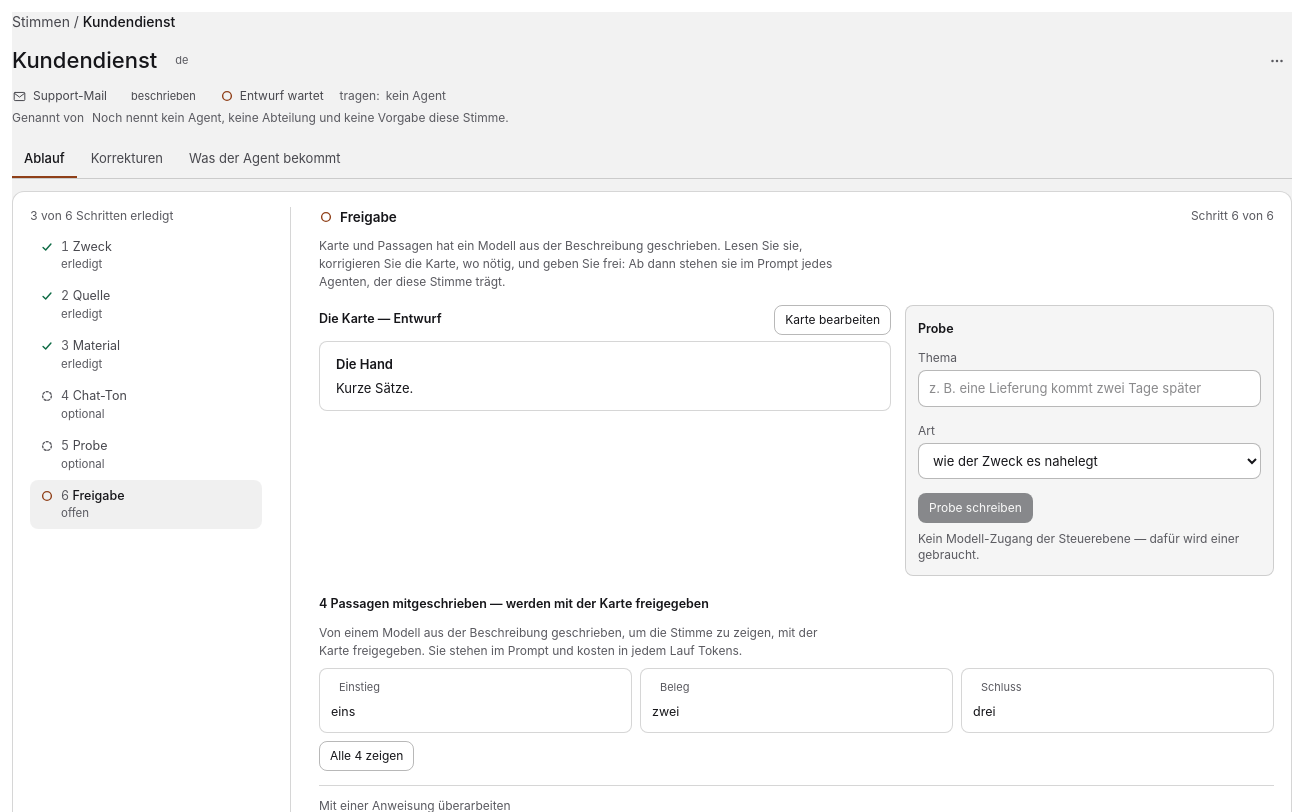
Test: a voice's page (#466) › opens on what needs attention and does not repeat it as the head's action
Expected: the text "Schritt 6 von 6" is shown, [1191,206,1274,224]
Expected: the button "Prüfen und freigeben" is not shown
// On another step the head leads back to it.
Click the text "Chat-Ton": (94, 396) [61,387,127,406]
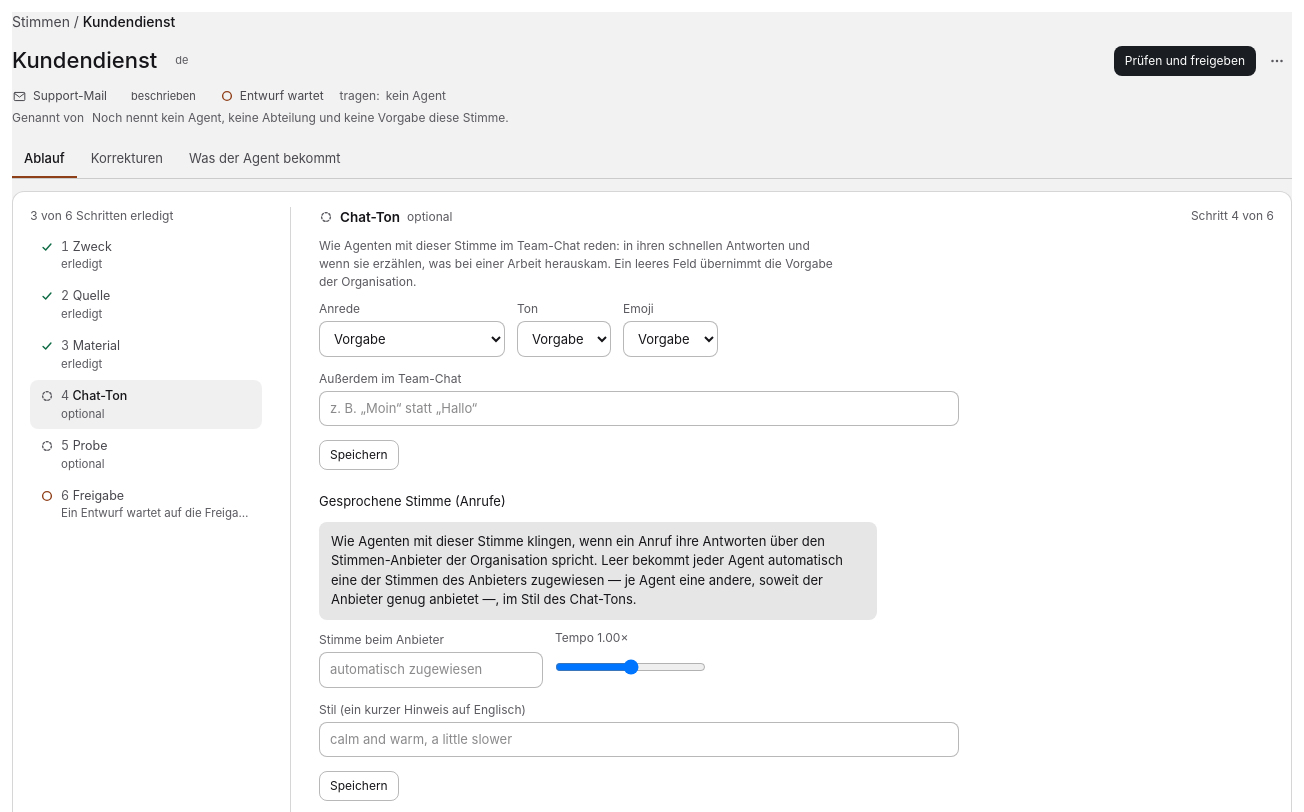
Click the button "Prüfen und freigeben": (1185, 60) [1114,46,1256,76]
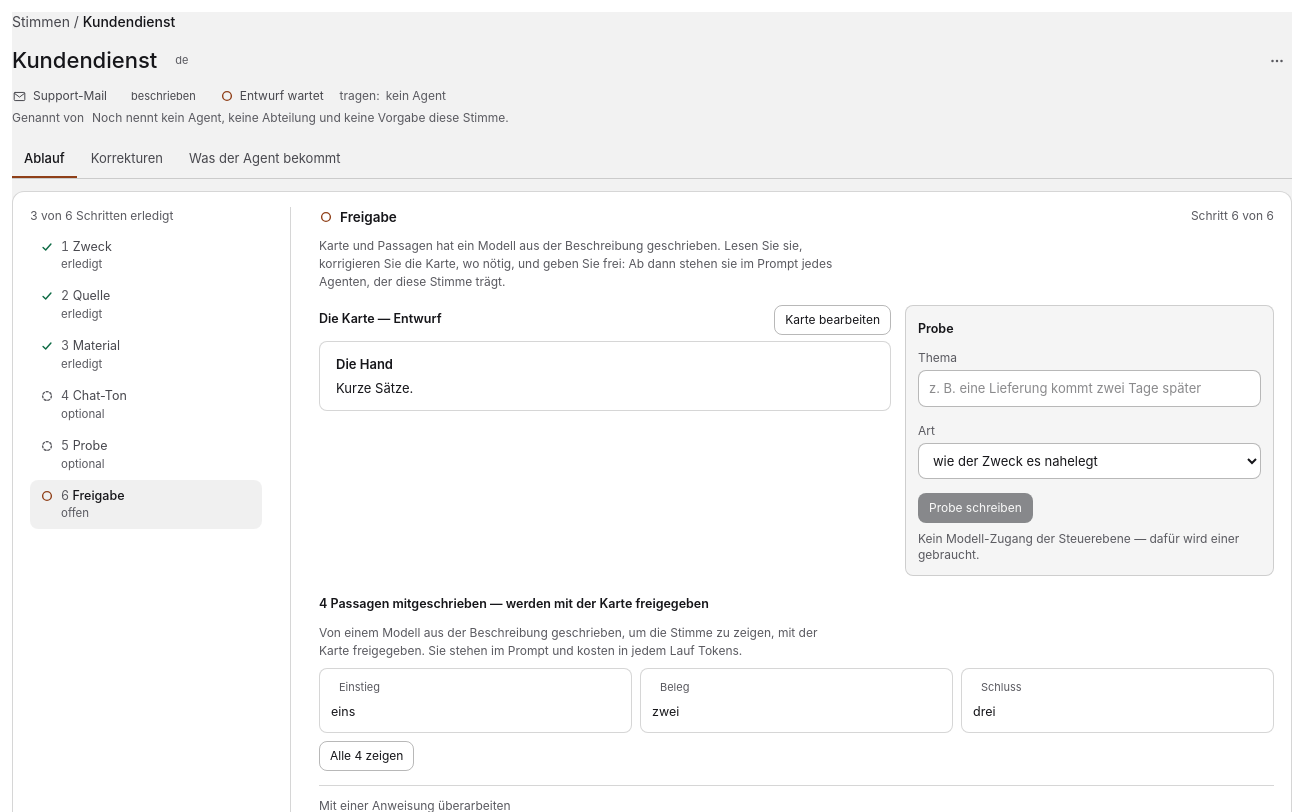
Expected: the text "Schritt 6 von 6" is shown, [1191,206,1274,224]
